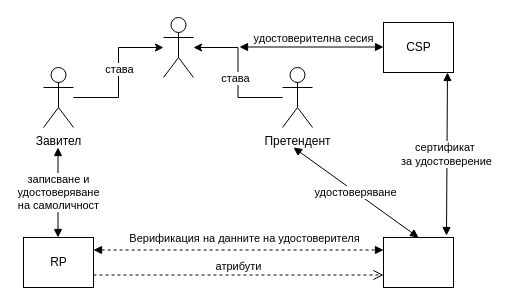
Some shapes in this 510 by 305 pixel diagram are drawn without their labels. The shapes that lost their labels are listed below. From the top down, each one's centre as x and y in pixels, then its label:
At point (178, 47): "Абонат".
At point (418, 262): "Verifier".
